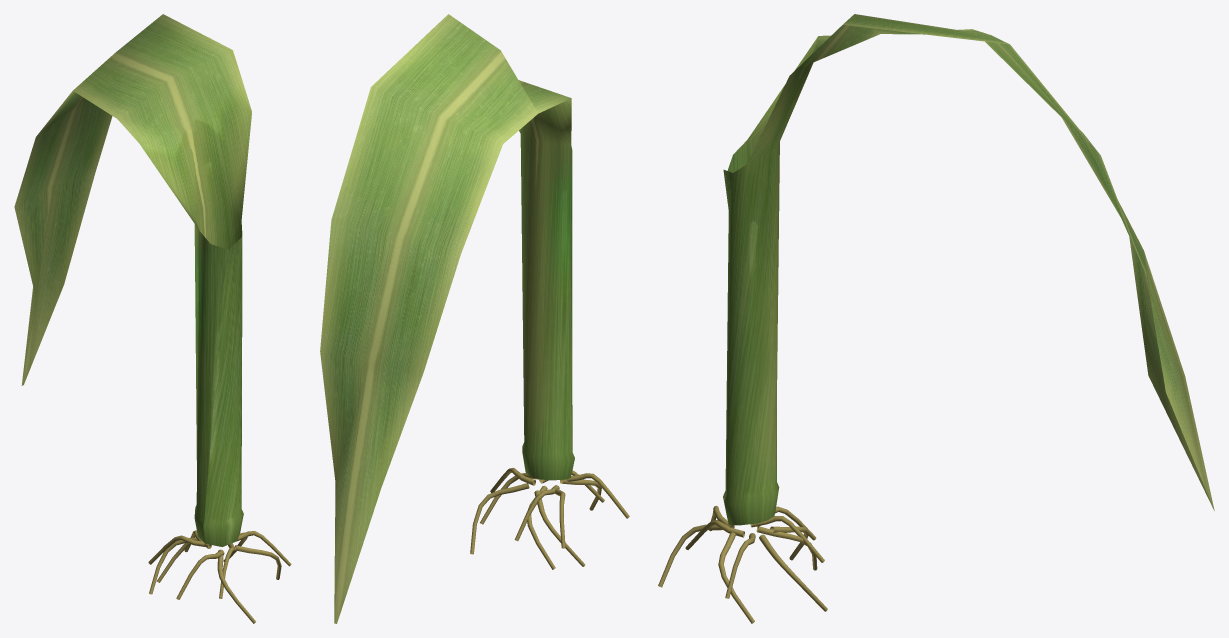
The model's file is grow1.fbx.
The picture shows the model from 3 angles, left to right: view 1: azimuth 30°, elevation 25°; view 2: azimuth 150°, elevation 25°; view 3: azimuth 270°, elevation 25°; orthographic projection. The views are drawn at different scales.
Visible parts, largest first — view 1: Plane.008, BezierCurve.037, BezierCurve.038, BezierCurve.041, BezierCurve.039, BezierCurve.040; view 2: Plane.008, BezierCurve.040, BezierCurve.038, BezierCurve.039, BezierCurve.037, BezierCurve.041; view 3: Plane.008, BezierCurve.039, BezierCurve.037, BezierCurve.040.
Part boxes in pixels (x1,y1,x2,y2): Plane.008: (14,14,251,546); BezierCurve.037: (217,531,291,623); BezierCurve.038: (156,543,224,599); BezierCurve.041: (149,537,234,598); BezierCurve.039: (184,530,281,579); BezierCurve.040: (148,532,247,564); Plane.008: (320,14,574,623); BezierCurve.040: (470,483,565,554); BezierCurve.038: (527,473,629,569); BezierCurve.039: (480,473,559,540); BezierCurve.037: (490,468,601,510); BezierCurve.041: (534,470,604,566); Plane.008: (723,14,1214,525); BezierCurve.039: (718,516,824,623); BezierCurve.037: (658,523,755,598); BezierCurve.040: (756,506,827,611).
Size of the model in its own units: 0.4825 by 0.5687 by 0.1441.
2 materials, 2 textured.
